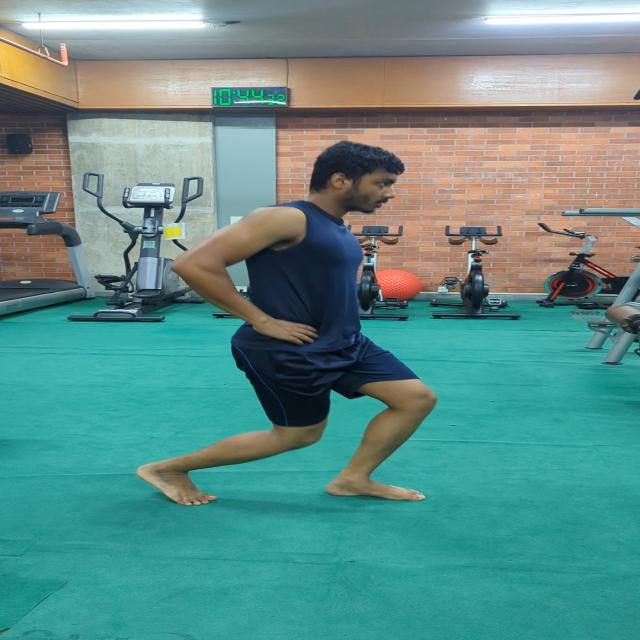Normal_Lunges: (125, 136, 441, 520)
